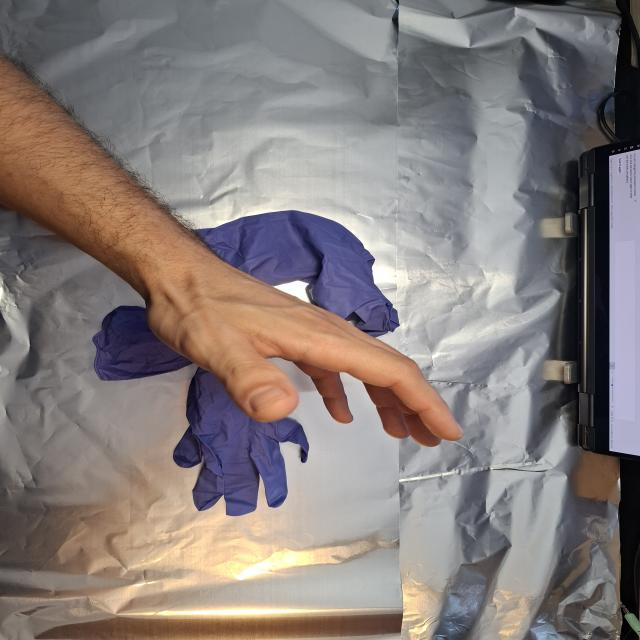glove_off: (142, 261, 467, 449)
